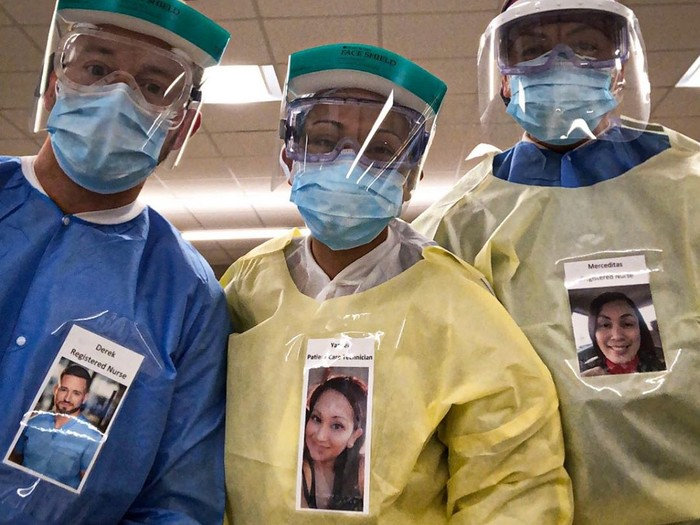Face_Shield: (34, 1, 230, 171), (267, 42, 447, 195), (476, 2, 654, 145)
Goggles: (55, 26, 194, 122), (285, 95, 427, 177), (488, 6, 631, 72)
with_mask: (47, 54, 172, 189), (291, 121, 404, 251), (504, 29, 620, 147)
